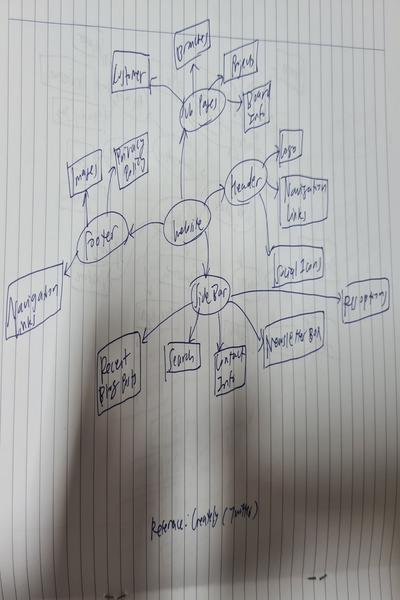arrow: (229, 285, 343, 306), (139, 303, 191, 342), (226, 297, 262, 348), (148, 75, 185, 102), (256, 193, 271, 257), (177, 129, 189, 199), (129, 218, 164, 241), (199, 231, 213, 276), (105, 164, 116, 213), (214, 310, 225, 350), (189, 310, 201, 342), (204, 184, 223, 204), (226, 93, 245, 113), (64, 252, 77, 279), (81, 190, 91, 224), (188, 61, 198, 93), (264, 143, 278, 163), (263, 180, 279, 196), (210, 74, 223, 89)
idea: (7, 263, 61, 342), (94, 332, 141, 415), (263, 311, 325, 369), (278, 174, 330, 230), (270, 244, 324, 289), (342, 277, 391, 323), (172, 20, 213, 69), (115, 131, 148, 189), (111, 49, 151, 95), (67, 150, 104, 198), (211, 346, 246, 395), (223, 39, 259, 84), (241, 82, 272, 130), (162, 341, 202, 376), (278, 128, 305, 163)
topic: (75, 212, 129, 263), (164, 198, 210, 246), (180, 89, 226, 133), (225, 159, 267, 206), (190, 274, 232, 315)
